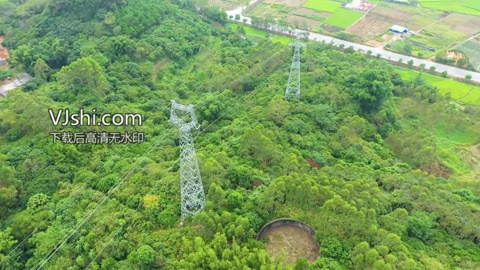tower_body: (162, 95, 213, 224)
tower_foot: (177, 188, 207, 220)
tower_head: (164, 97, 202, 133)
